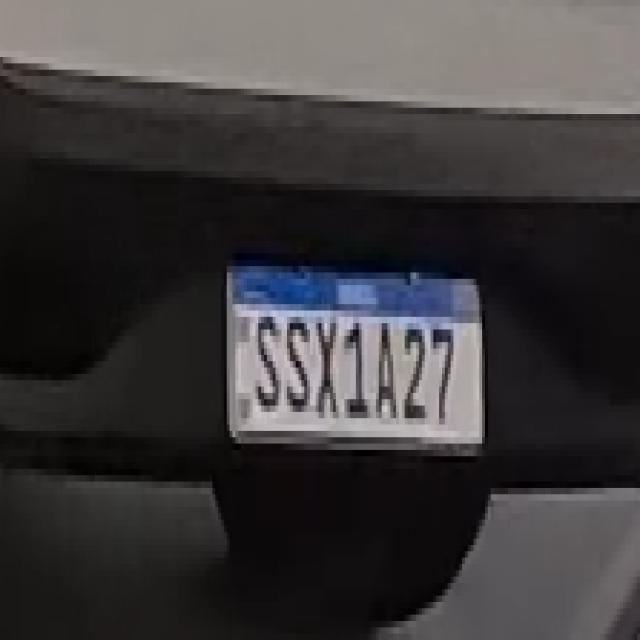Placa_mercosul_carro: (226, 266, 484, 452)
